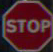Stop: (3, 1, 52, 40)
